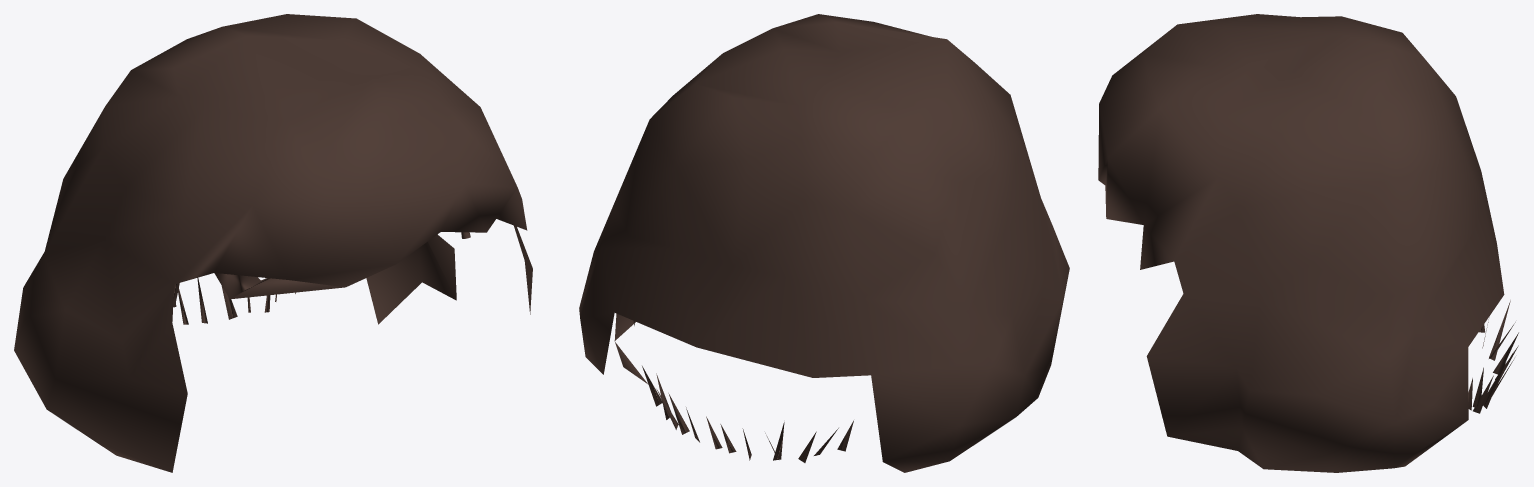
File: blunt-bob.glb
The picture shows the model from 3 angles, left to right: view 1: azimuth 30°, elevation 25°; view 2: azimuth 150°, elevation 25°; view 3: azimuth 270°, elevation 25°; orthographic projection. The views are drawn at different scales.
Parts seen in each view (by area): view 1: Hair, HairPulledRootStrands; view 2: Hair, HairPulledRootStrands; view 3: Hair, HairPulledRootStrands.
Boxes of the visible parts, x1,y1,x2,y2 form: Hair: (14,14,532,472); HairPulledRootStrands: (173,232,470,324); Hair: (579,14,1069,472); HairPulledRootStrands: (633,321,853,462); Hair: (1098,14,1504,472); HairPulledRootStrands: (1468,300,1518,413).
Bounding box in the file's own units: 0.4937 × 0.3961 × 0.4254.
